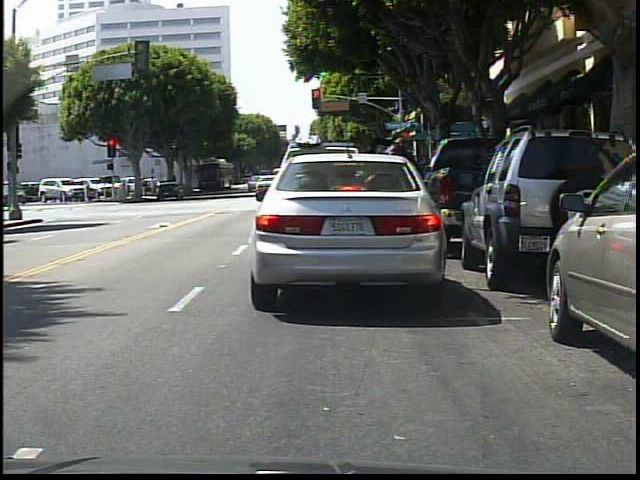person: (386, 141, 417, 245)
